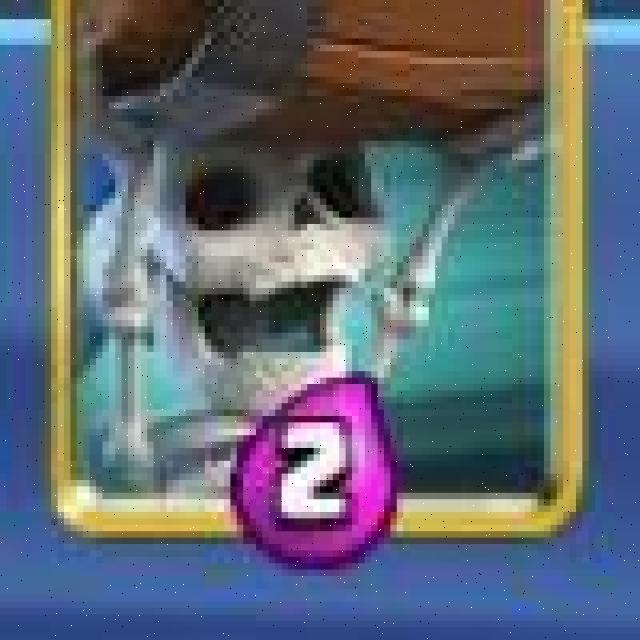Wall_Breakers: (47, 0, 588, 543)
